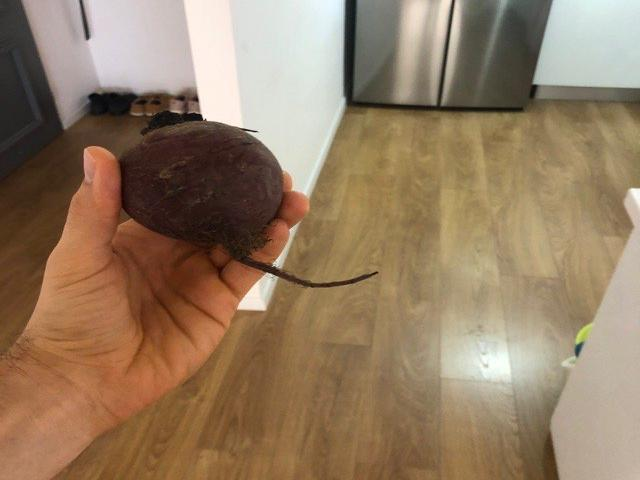beet: (119, 112, 378, 287)
